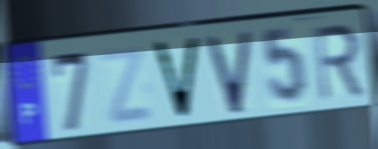5: (259, 23, 311, 111)
7: (49, 51, 93, 134)
R: (311, 21, 366, 105)
V: (148, 35, 203, 123), (204, 28, 254, 118)
Z: (98, 43, 156, 128)
